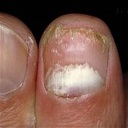Nail Fungal Infection: (40, 25, 112, 48)
